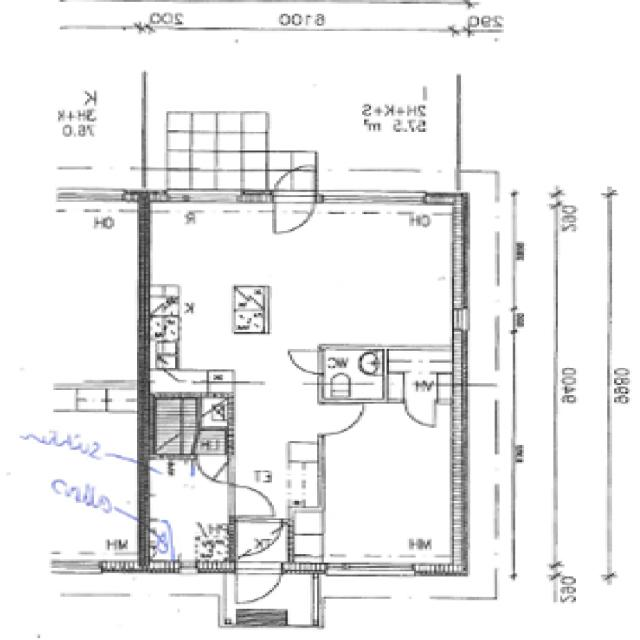door: (237, 561, 281, 607), (275, 191, 314, 234), (275, 161, 314, 204), (238, 518, 282, 556), (228, 486, 274, 515), (317, 407, 362, 434), (288, 351, 325, 373), (197, 454, 224, 481), (407, 399, 435, 425)
